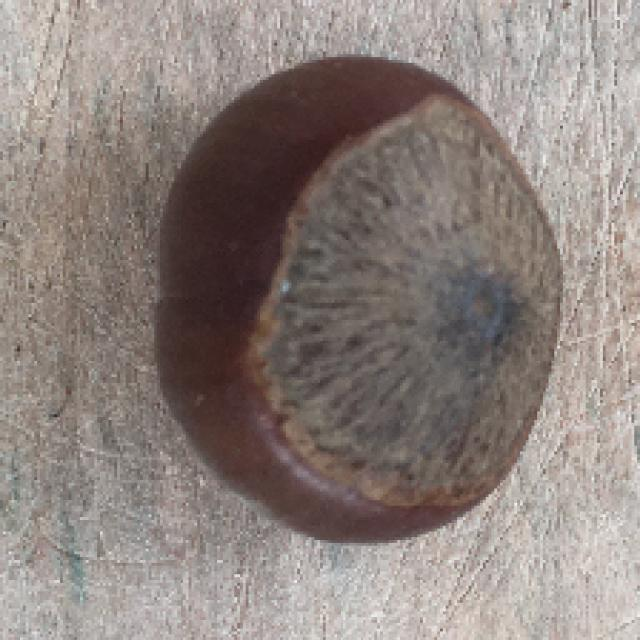qualityHazelnut: (156, 44, 563, 552)
